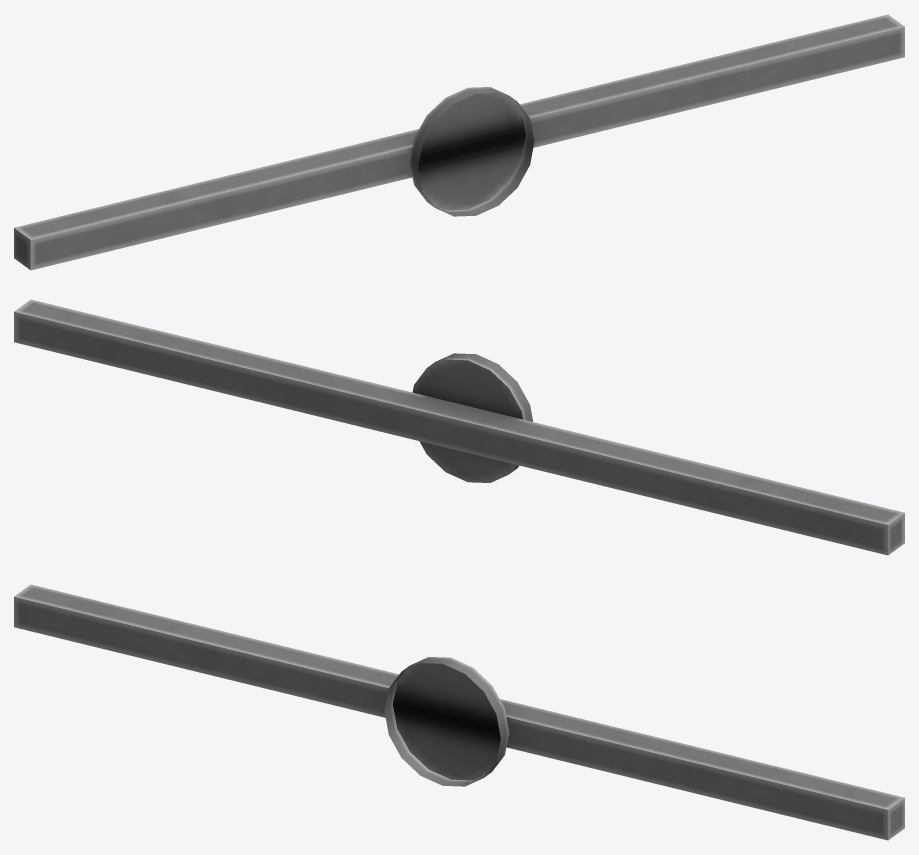
Rendered from grus_solar_pivot.obj.
3 views of the same model, one above another, from view 1: azimuth 30°, elevation 25°; view 2: azimuth 150°, elevation 25°; view 3: azimuth 330°, elevation 25° (orthographic).
Parts seen in each view (by area): view 1: 1; view 2: 1; view 3: 1.
Boxes of the visible parts, left/top/right/bottom form: 1: left=14, top=14, right=904, bottom=270; 1: left=14, top=299, right=904, bottom=555; 1: left=14, top=584, right=904, bottom=840.
Size of the model in its own units: 0.75 by 0.1 by 0.0375.
1 material, 1 textured.
